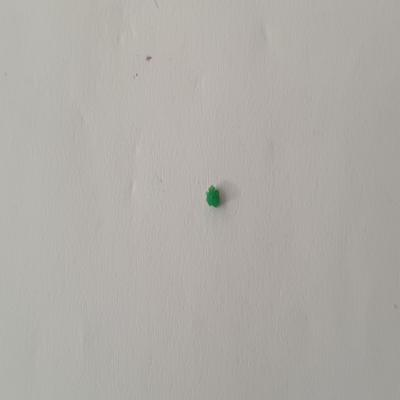plastic: (200, 177, 225, 210)
